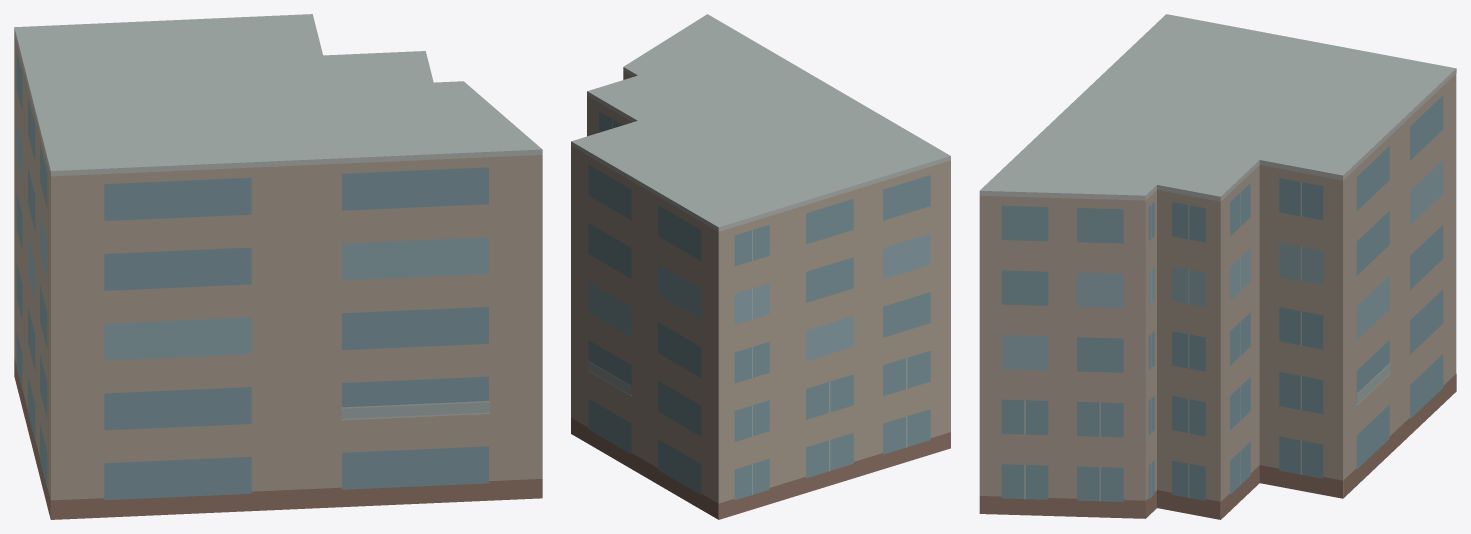
File: survey-upis-32542064.glb
3 views of the same model, side by side, from view 1: azimuth 30°, elevation 25°; view 2: azimuth 150°, elevation 25°; view 3: azimuth 270°, elevation 25° (orthographic). The views are drawn at different scales.
Visible parts, largest first — view 1: survey-upis-32542064.tmp; view 2: survey-upis-32542064.tmp; view 3: survey-upis-32542064.tmp.
Boxes of the visible parts, <box> form: survey-upis-32542064.tmp: <box>14,14,542,519</box>; survey-upis-32542064.tmp: <box>571,14,950,519</box>; survey-upis-32542064.tmp: <box>979,14,1456,519</box>.
Bounding box in the file's own units: 19.3 × 15.9 × 21.28.
